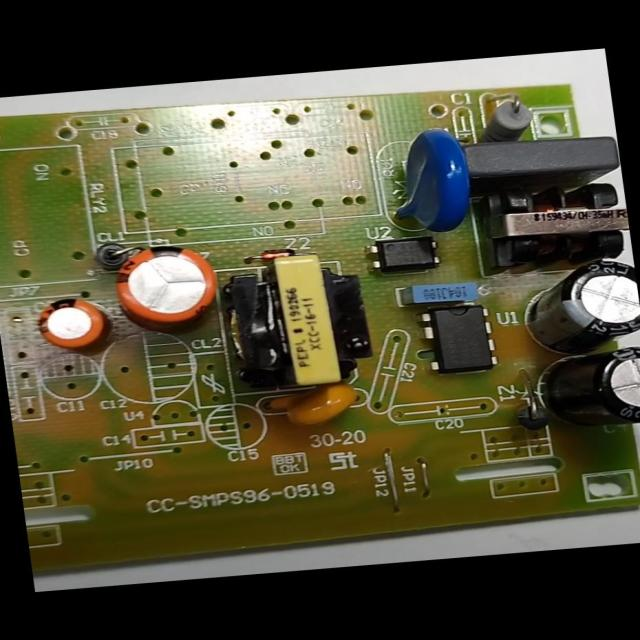Cap1: (104, 237, 227, 330)
Cap2: (26, 292, 110, 350)
Cap3: (516, 255, 639, 354)
Cap4: (527, 343, 639, 432)
MOSFET: (421, 302, 499, 372)
Mov: (375, 121, 478, 236)
Resistor: (476, 93, 543, 141)
Transformer: (223, 247, 376, 394), (480, 174, 632, 270)
